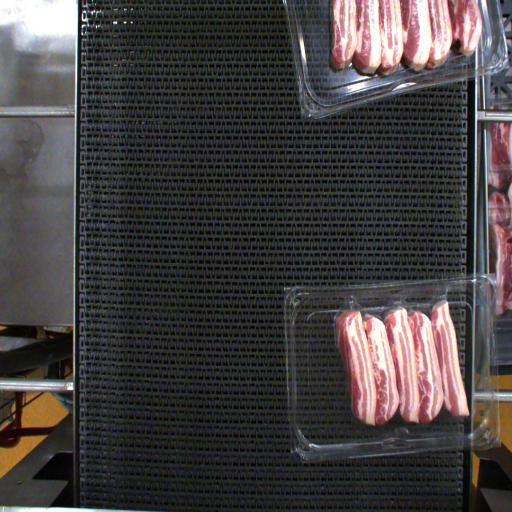packaging-error: (338, 289, 361, 311), (388, 286, 413, 306), (429, 284, 457, 299)
unsealed: (327, 289, 466, 328)
